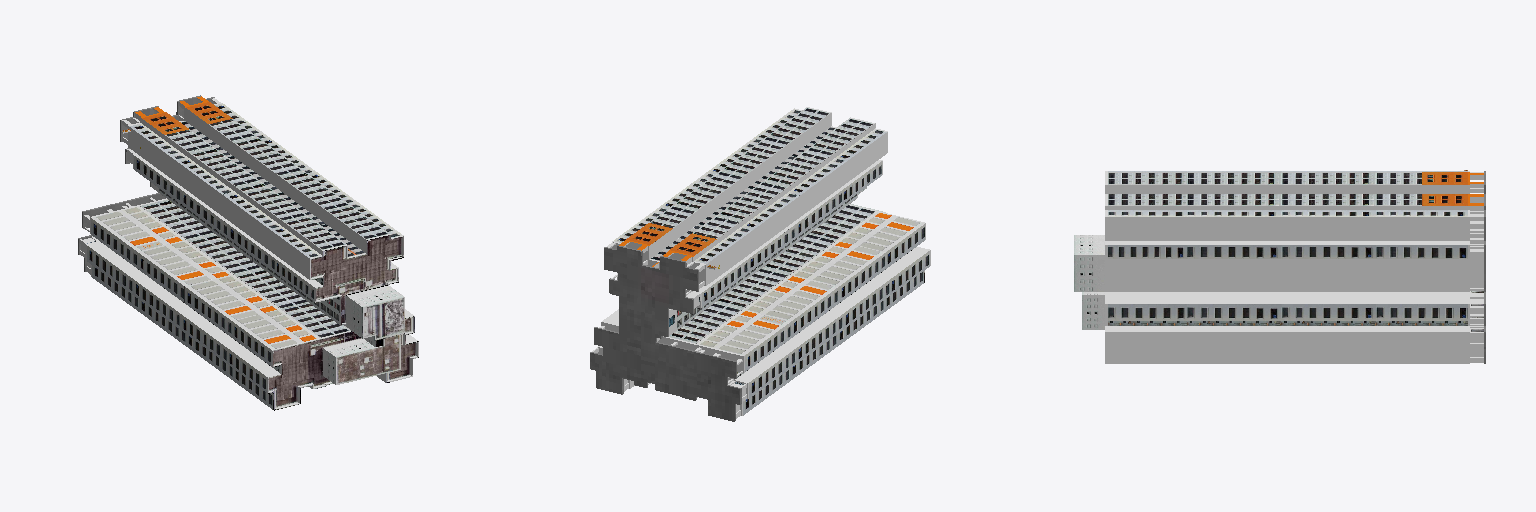
3 renders of one model, left to right at view 1: azimuth 30°, elevation 25°; view 2: azimuth 150°, elevation 25°; view 3: azimuth 270°, elevation 25°, orthographic.
Visible parts, largest first — view 1: polygon.842; view 2: polygon.842; view 3: polygon.842.
Part boxes in pixels (bbox=[...]): polygon.842: bbox=[78, 95, 418, 410]; polygon.842: bbox=[590, 107, 930, 421]; polygon.842: bbox=[1074, 170, 1485, 363].
Size of the model in its own units: 37.38 by 34.99 by 88.47.
1 materials, 1 textured.